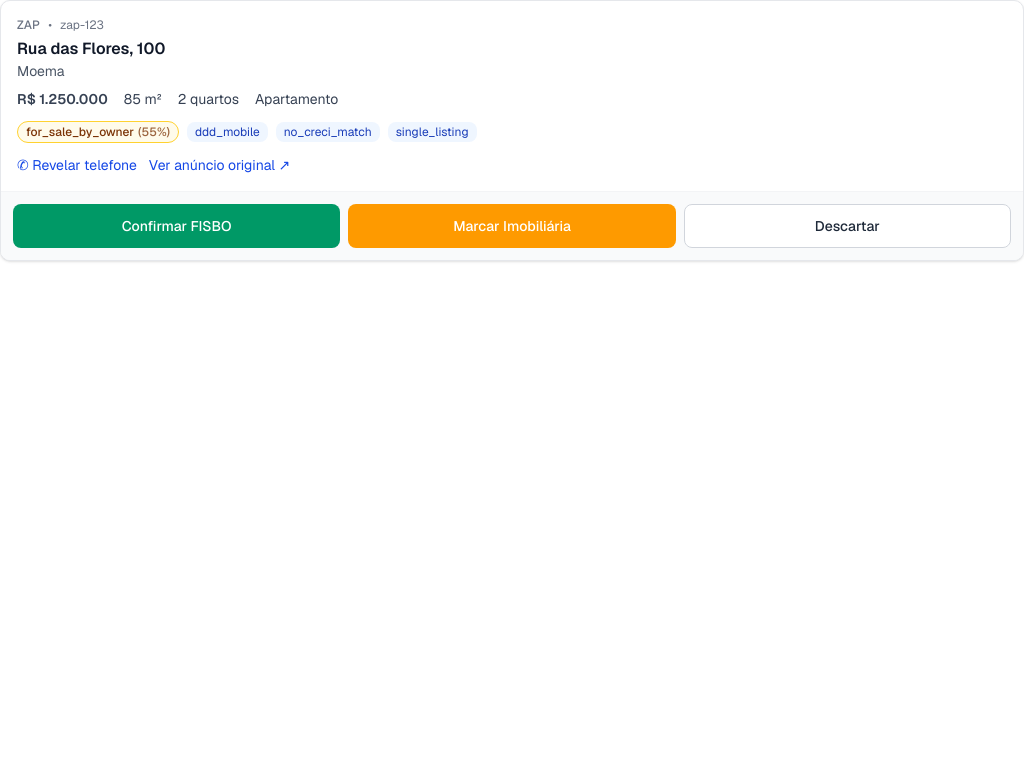
ReviewQueueCard — Story 7.8 AC3/AC4 › disables Revelar button until consent checkbox is checked
Click the button "✆ Revelar telefone" at {"x": 77, "y": 165}, box [17, 155, 137, 175]
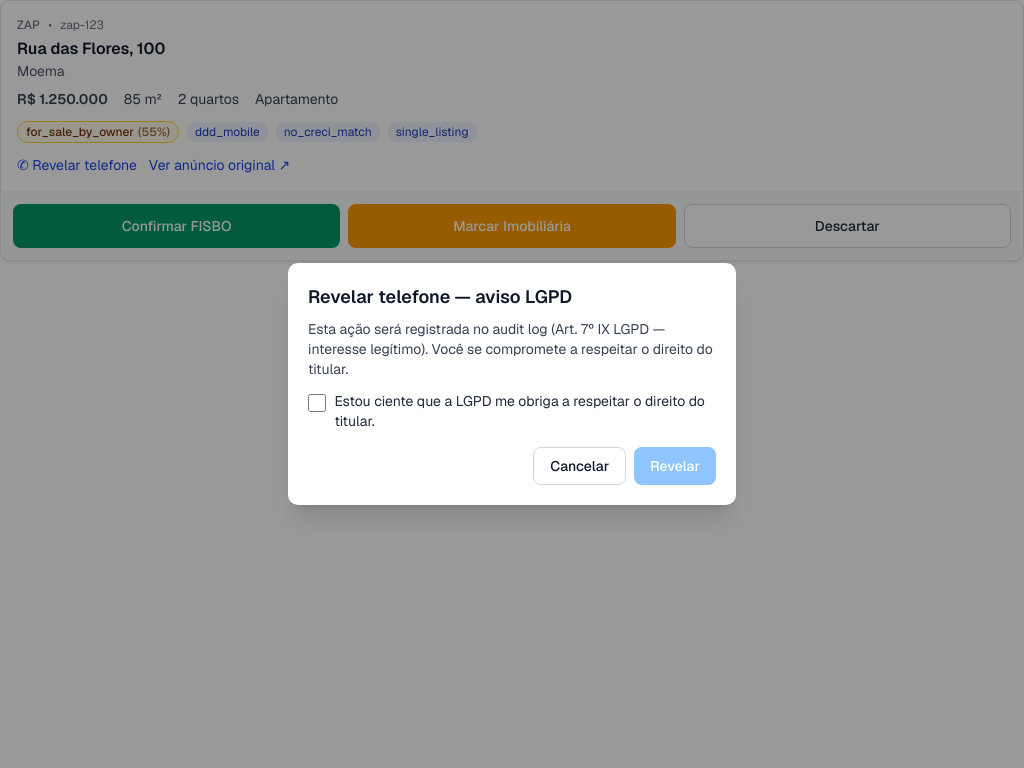
Check: the button "Revelar" is disabled, box [634, 447, 716, 485]
Click the checkbox named "confirmar consentimento lgpd" at {"x": 317, "y": 403}, box [308, 393, 326, 413]
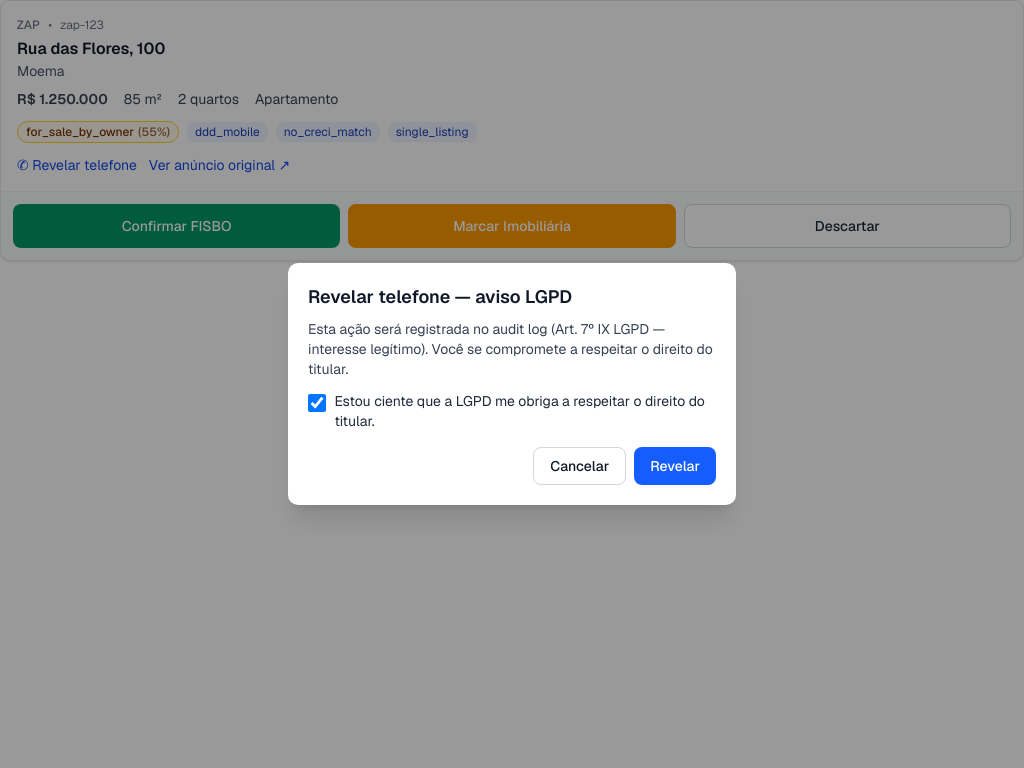
Check: the button "Revelar" is enabled, box [634, 447, 716, 485]
